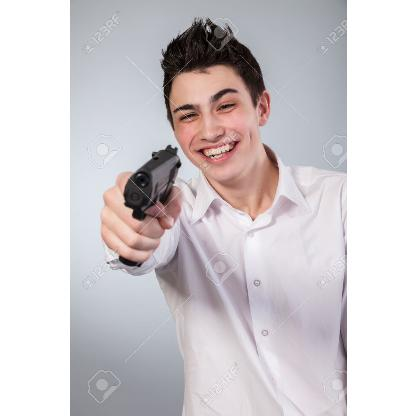gun: (118, 146, 184, 272)
